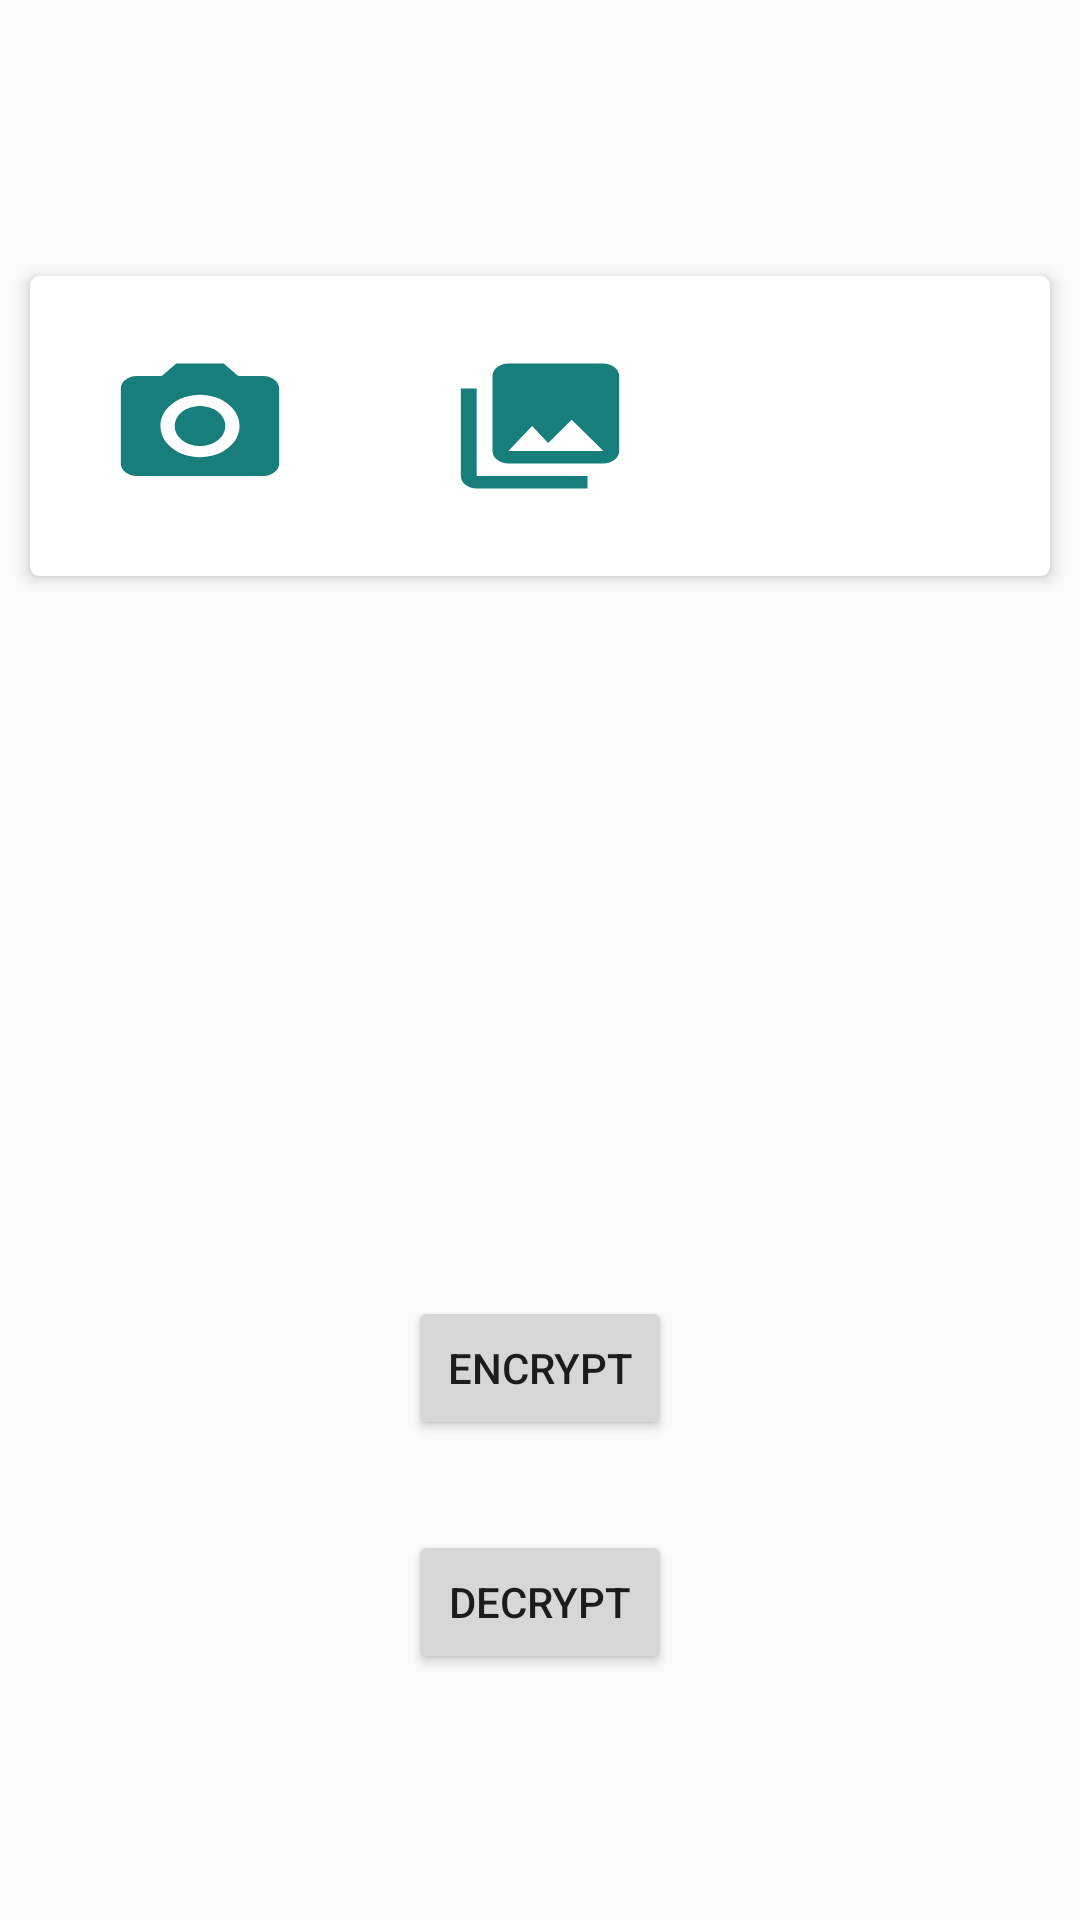

Icon click points for this 1080×1920 phone screenshot, format (x,y):
camera: (200,419)
gallery: (540,426)
